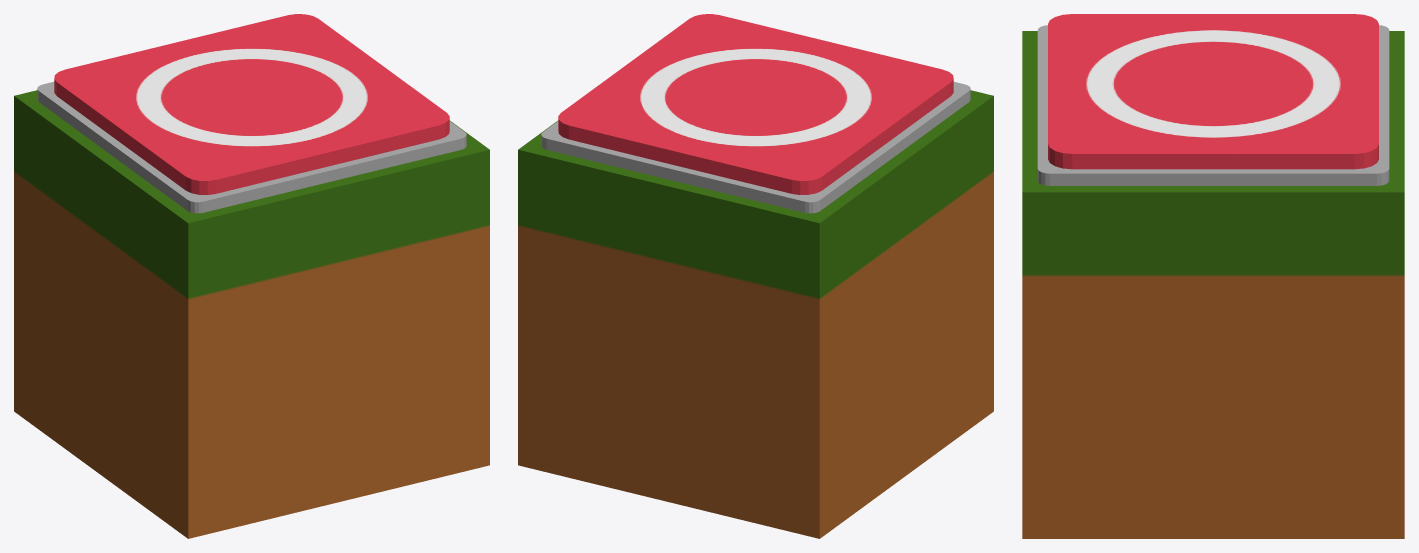
File: ButtonO.fbx
The picture shows the model from 3 angles, left to right: view 1: azimuth 30°, elevation 25°; view 2: azimuth 150°, elevation 25°; view 3: azimuth 270°, elevation 25°; orthographic projection. The views are drawn at different scales.
Parts seen in each view (by area): view 1: ButtonO; view 2: ButtonO; view 3: ButtonO.
Boxes of the visible parts, x1,y1,x2,y2 form: ButtonO: (14,14,489,538); ButtonO: (518,14,993,538); ButtonO: (1022,14,1404,538).
Size of the model in its own units: 200 by 216 by 200.
Materials: 3 (2 with a texture image).
